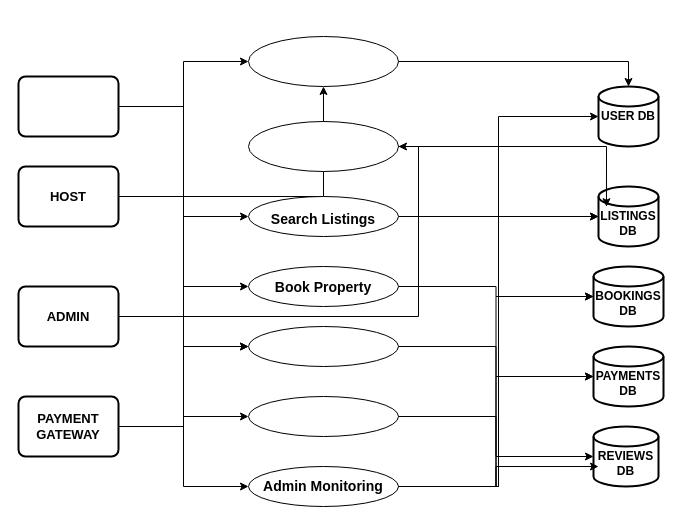
The diagram is 681 pixels wide and 524 high, and some of its shapes have lost their labels. Here are the shapes that lost their labels. From the top down, the centre of each, then its label:
the point at 323,61: User Registration & Login
the point at 68,106: GUEST
the point at 323,146: Manage Listings
the point at 323,346: Make Payment
the point at 323,416: Review management
